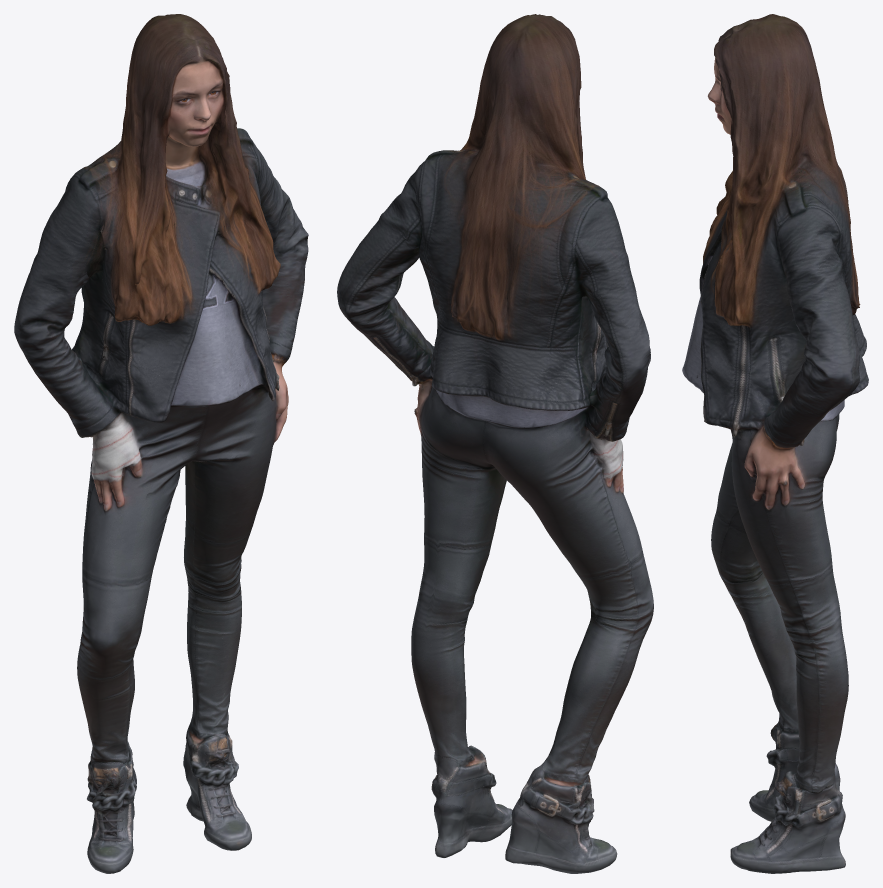
Rendered from Scan-1.OBJ.
3 views of the same model, side by side, from view 1: azimuth 30°, elevation 25°; view 2: azimuth 150°, elevation 25°; view 3: azimuth 270°, elevation 25° (orthographic).
Parts seen in each view (by area): view 1: defaultMat; view 2: defaultMat; view 3: defaultMat.
Part boxes in pixels (x1,y1,x2,y2): defaultMat: [14, 14, 308, 873]; defaultMat: [337, 14, 653, 873]; defaultMat: [682, 14, 868, 873].
Size of the model in its own units: 0.6546 by 1.75 by 0.3582.
